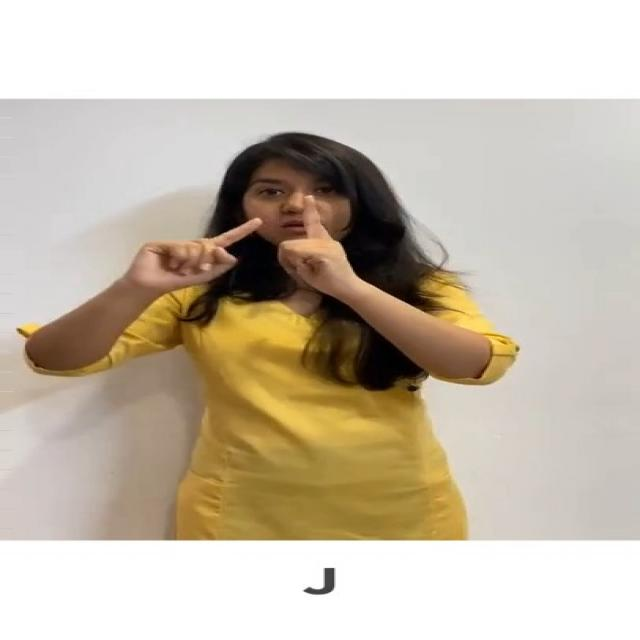J: (129, 191, 379, 298)
